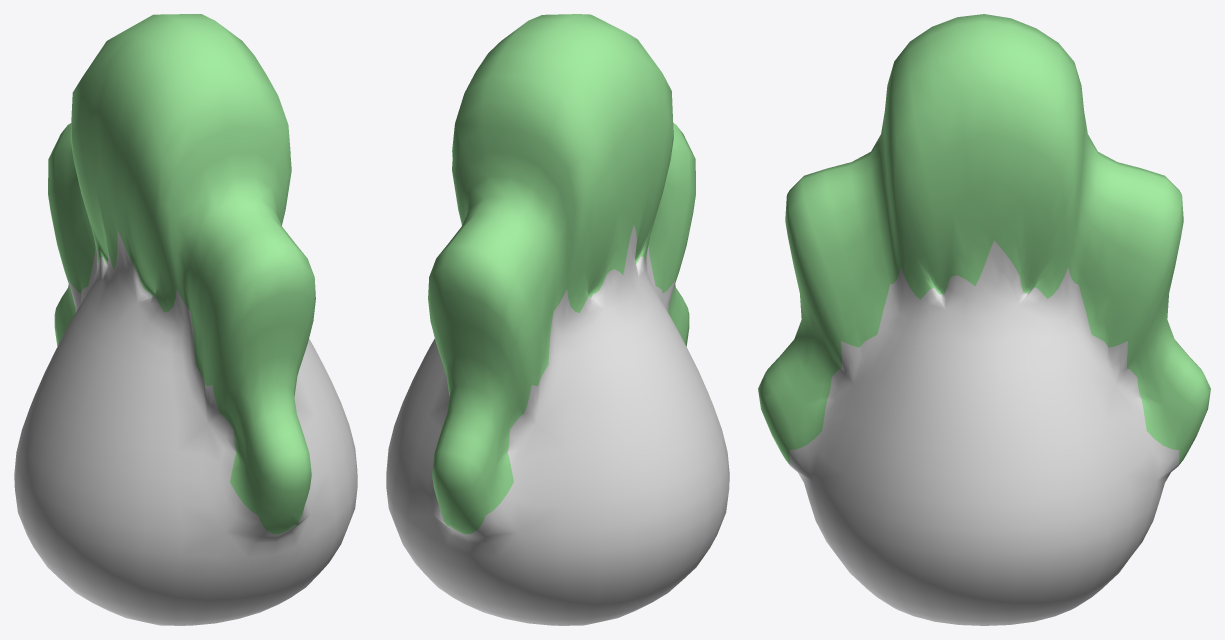
File: Cabbage.fbx
3 renders of one model, left to right at view 1: azimuth 30°, elevation 25°; view 2: azimuth 150°, elevation 25°; view 3: azimuth 270°, elevation 25°, orthographic.
Parts seen in each view (by area): view 1: Cabbage; view 2: Cabbage; view 3: Cabbage.
Boxes of the visible parts, x1,y1,x2,y2 form: Cabbage: [14, 14, 357, 625]; Cabbage: [386, 14, 729, 625]; Cabbage: [758, 14, 1210, 625].
Size of the model in its own units: 340 by 624 by 448.
